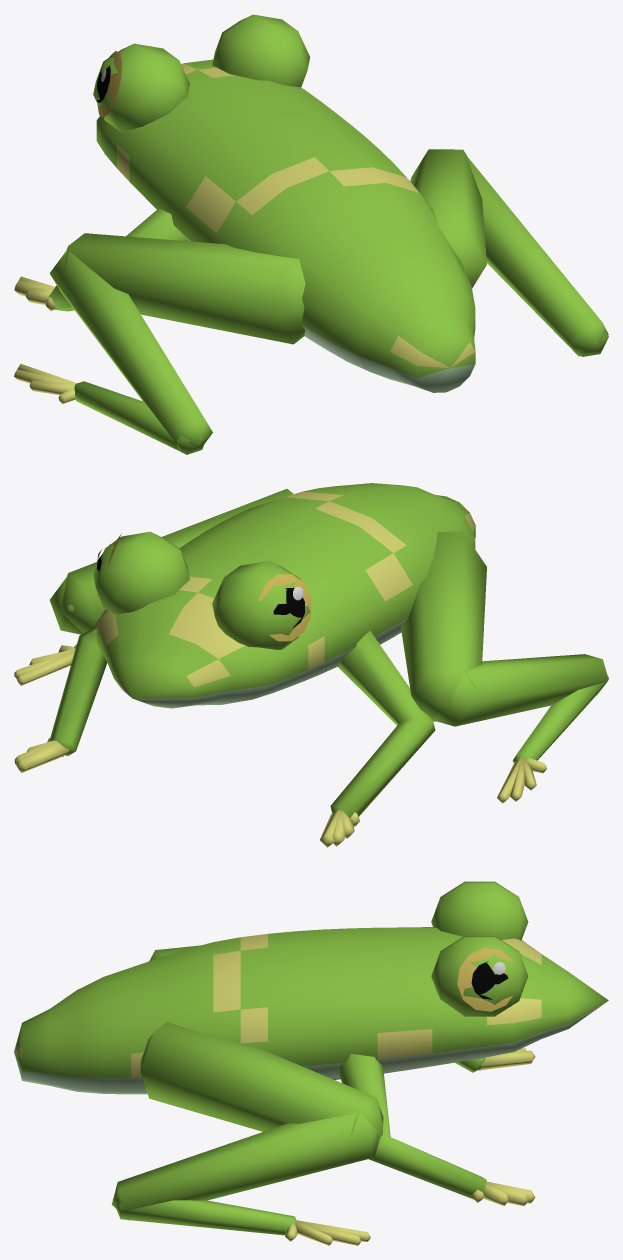
File: glass_frog.glb
The picture shows the model from 3 angles, top to bottom: view 1: azimuth 30°, elevation 25°; view 2: azimuth 150°, elevation 25°; view 3: azimuth 270°, elevation 25°; orthographic projection. The views are drawn at different scales.
Parts seen in each view (by area): view 1: glass_frog; view 2: glass_frog; view 3: glass_frog.
Boxes of the visible parts, x1,y1,x2,y2 form: glass_frog: (14, 14, 608, 454); glass_frog: (14, 483, 608, 847); glass_frog: (14, 881, 608, 1245).
Bounding box in the file's own units: 1.35 × 0.6125 × 1.47.
